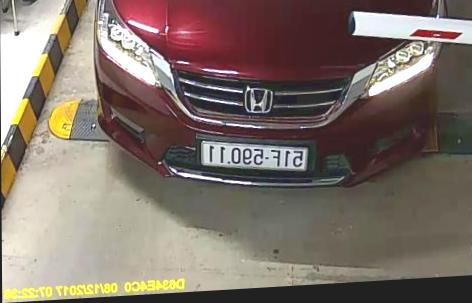License_Plate: (197, 134, 311, 177)
